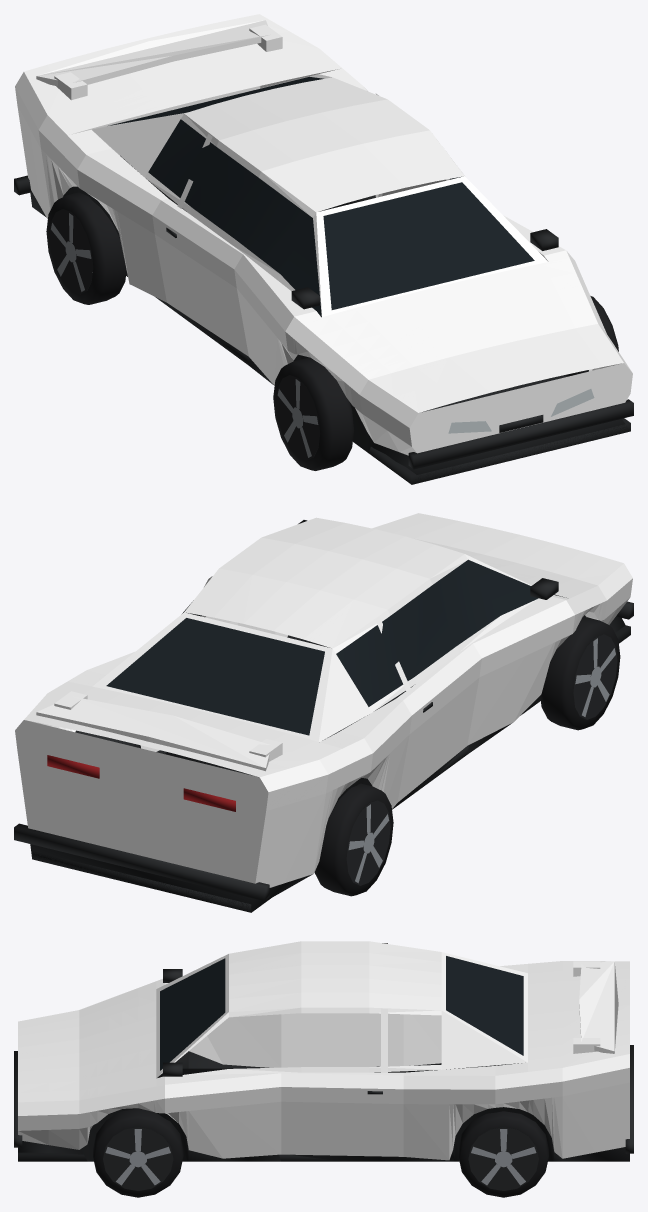
File: bancroft_seixo.glb
3 views of the same model, one above another, from view 1: azimuth 30°, elevation 25°; view 2: azimuth 150°, elevation 25°; view 3: azimuth 270°, elevation 25° (orthographic). The views are drawn at different scales.
Parts seen in each view (by area): view 1: Body_Paint, Body_Details, Mount_FrontLeft_Wheel_Details, Mount_RearLeft_Wheel_Details; view 2: Body_Paint, Body_Details, Mount_FrontLeft_Wheel_Details, Mount_RearLeft_Wheel_Details; view 3: Body_Paint, Body_Details, Mount_FrontRight_Wheel_Details, Mount_RearRight_Wheel_Details.
Boxes of the visible parts, <box> form: Body_Paint: <box>15,14,632,455</box>; Body_Details: <box>14,76,633,484</box>; Mount_FrontLeft_Wheel_Details: <box>273,357,353,470</box>; Mount_RearLeft_Wheel_Details: <box>46,192,126,304</box>; Body_Paint: <box>15,513,632,887</box>; Body_Details: <box>14,520,633,912</box>; Mount_FrontLeft_Wheel_Details: <box>540,616,620,730</box>; Mount_RearLeft_Wheel_Details: <box>314,783,393,896</box>; Body_Paint: <box>18,941,629,1160</box>; Body_Details: <box>14,956,633,1161</box>; Mount_FrontRight_Wheel_Details: <box>93,1108,183,1197</box>; Mount_RearRight_Wheel_Details: <box>458,1111,548,1197</box>.
Bounding box in the file's own units: 1.84 × 1.24 × 4.11.
Materials: 2 (1 with a texture image).
